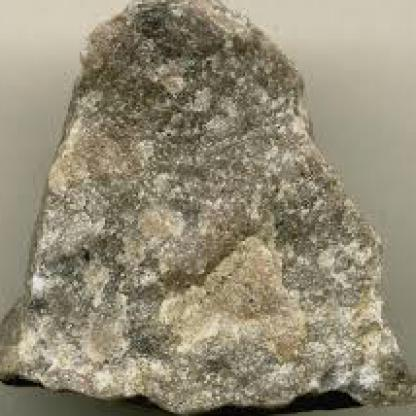Metamorphic_Quartize: (2, 6, 404, 414)
